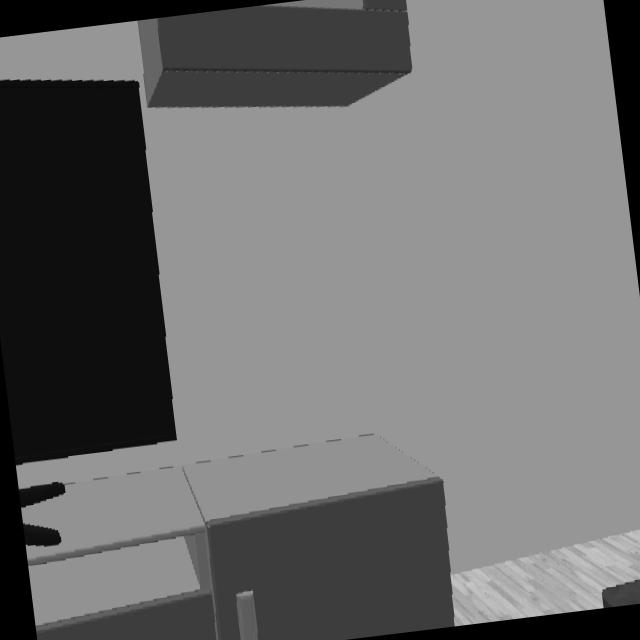cabinet: (23, 436, 455, 640), (136, 0, 414, 110)
monitor: (0, 80, 177, 467)
